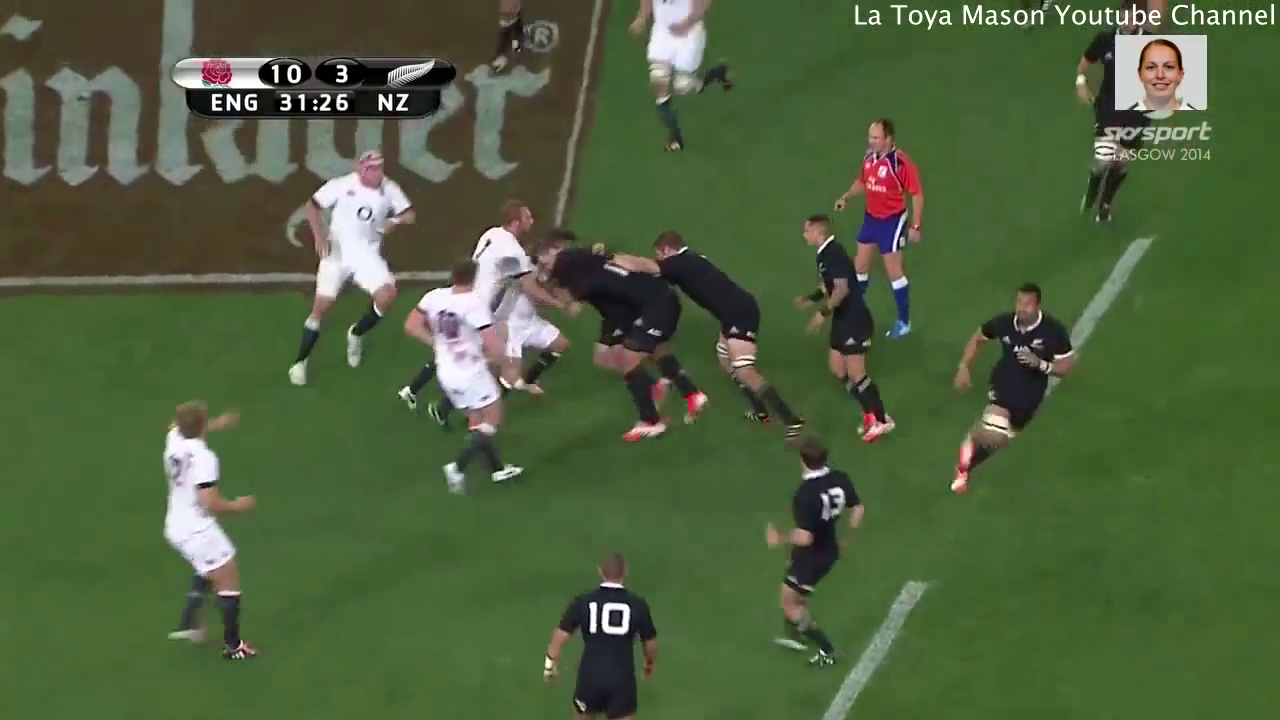maul: (405, 194, 717, 472)
player: (530, 217, 699, 447), (647, 223, 808, 441), (277, 147, 417, 392), (145, 394, 268, 668), (397, 257, 529, 507), (948, 268, 1078, 501), (453, 183, 573, 420), (758, 429, 868, 672), (789, 213, 899, 450), (530, 544, 669, 720), (837, 110, 930, 339), (623, 1, 743, 156)
